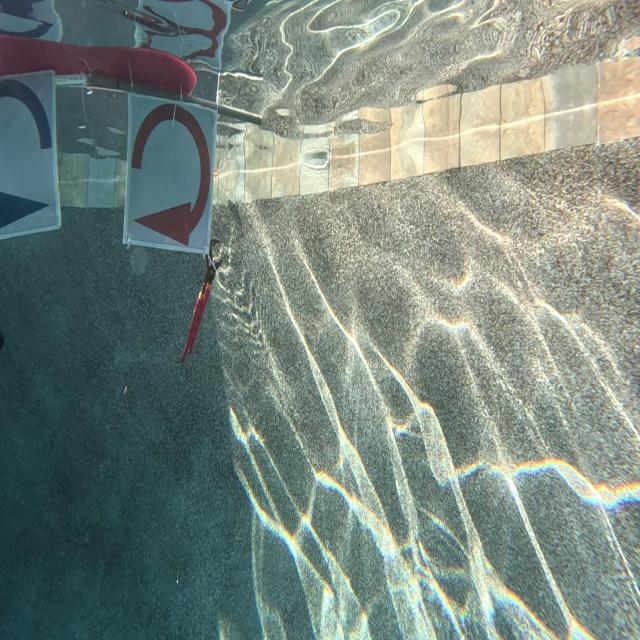blue_side: (0, 71, 58, 230)
red_side: (122, 98, 208, 246)
